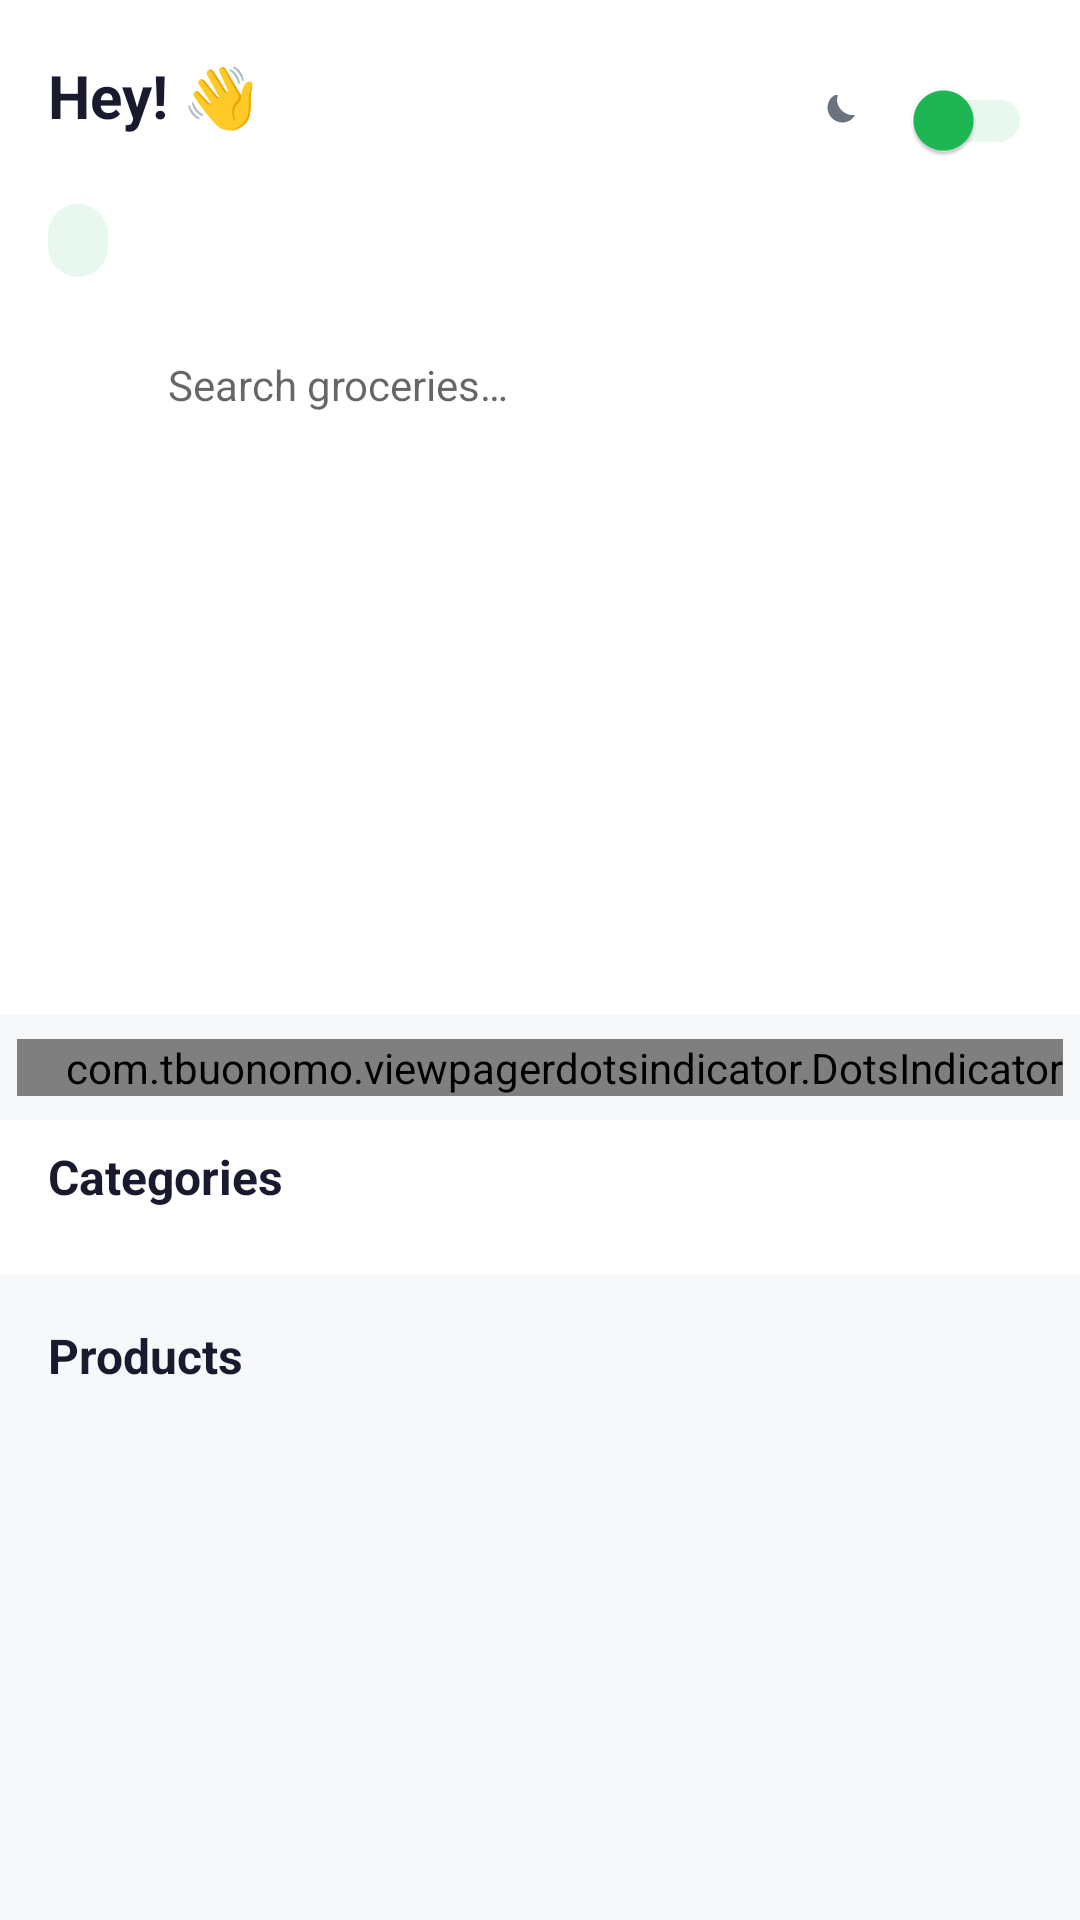

Where to tap for icons on this 1080*1920 app screen, as [x,y]:
moon: [841,109]
